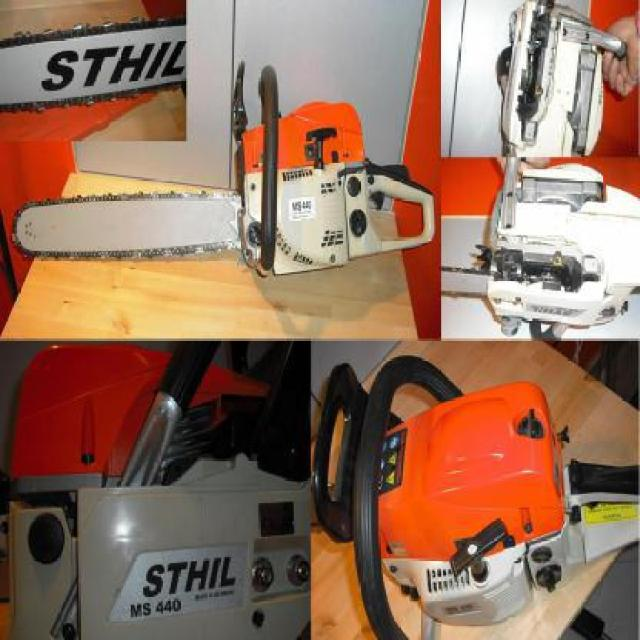Chainsaw: (5, 54, 440, 303), (312, 344, 639, 640)
